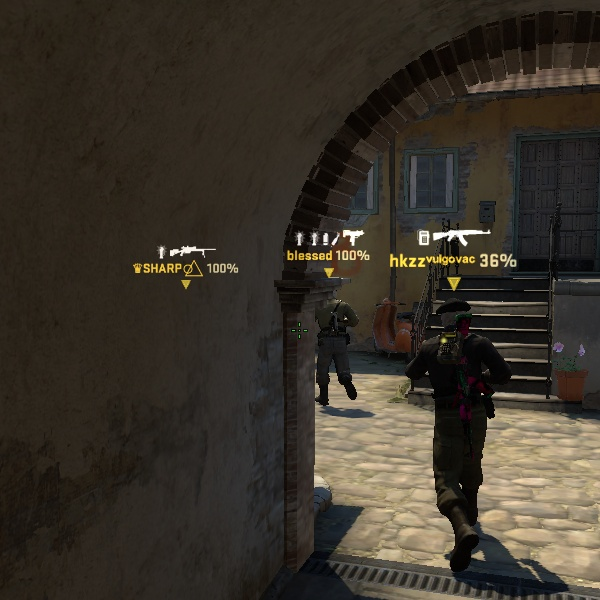t_body: (376, 297, 525, 568), (300, 286, 371, 408)
t_head: (433, 295, 483, 348)
